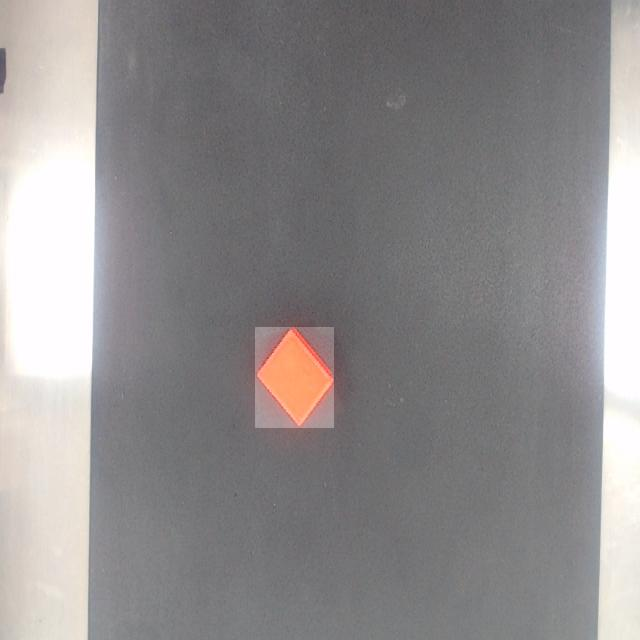Rojo: (255, 327, 334, 428)
